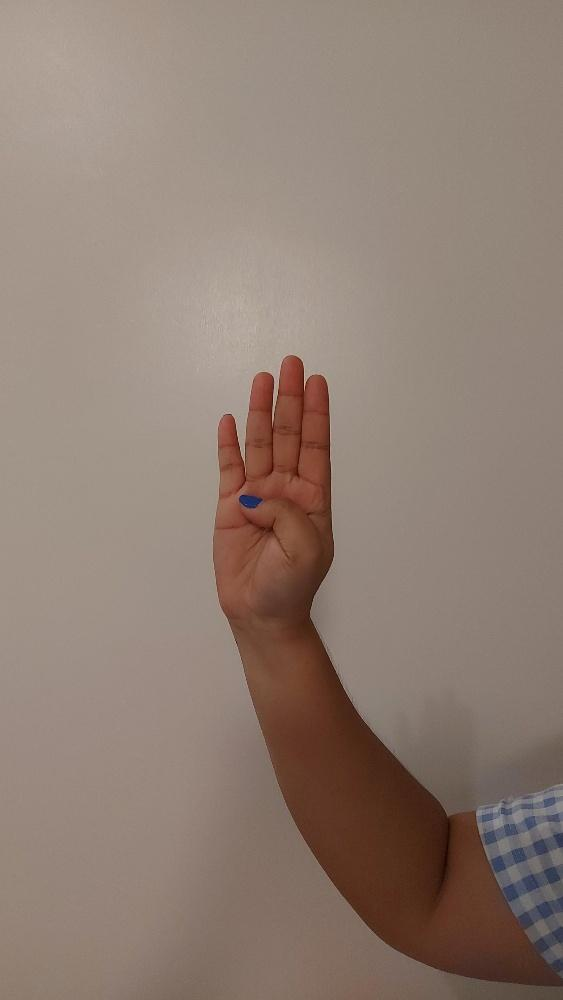b: (211, 351, 334, 620)
